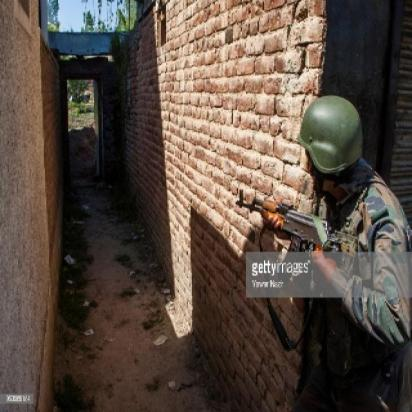Gun: (222, 180, 363, 290)
